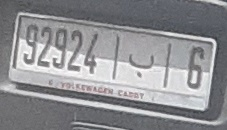2: (67, 29, 83, 73), (37, 26, 53, 68)
4: (84, 32, 99, 75)
6: (186, 45, 205, 91)
9: (23, 22, 39, 66), (53, 27, 67, 71)
b: (127, 48, 158, 81)
